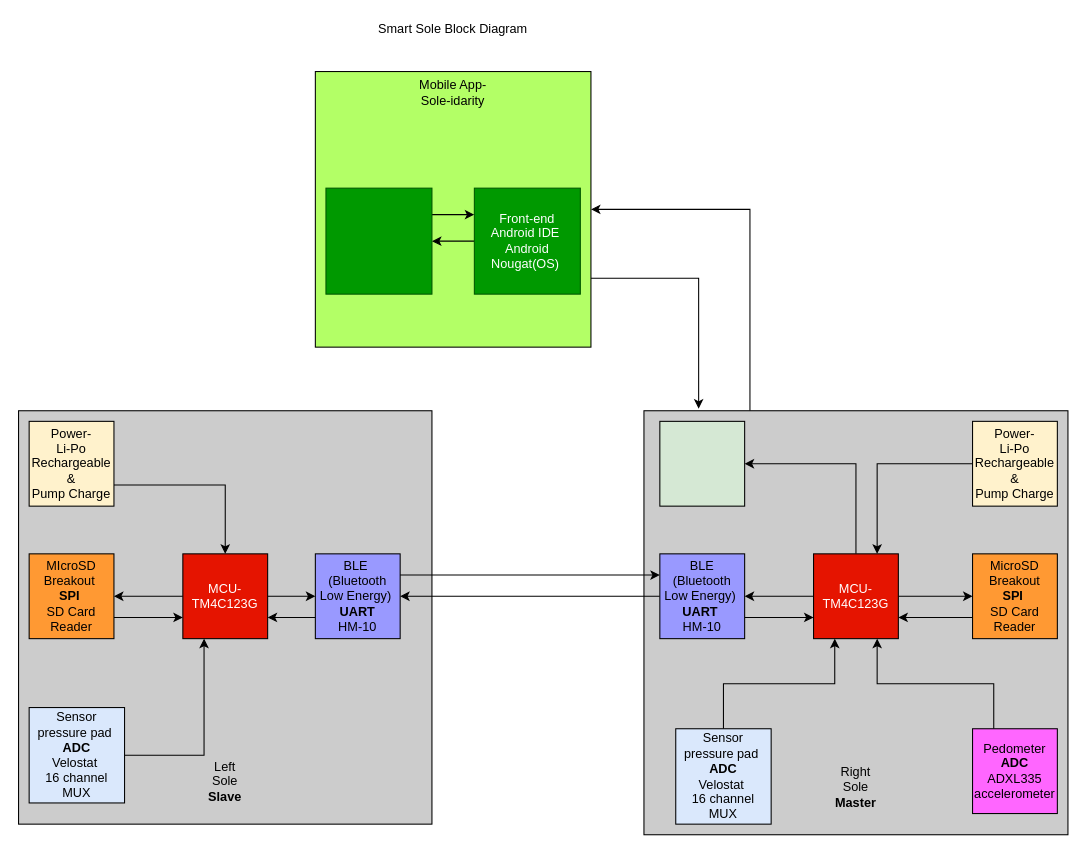
Some shapes in this 1087 by 853 pixel diagram are drawn without their labels. Each missing label, with the centre of its shape:
"Back-end Database MySQL" belongs at (378,240).
"Bluetooth- UART HC-05" belongs at (702,463).
